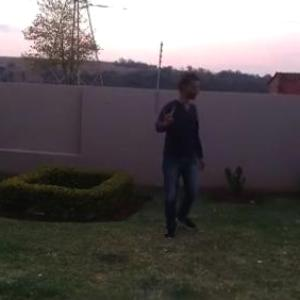takeoff-hand: (152, 103, 179, 130)
